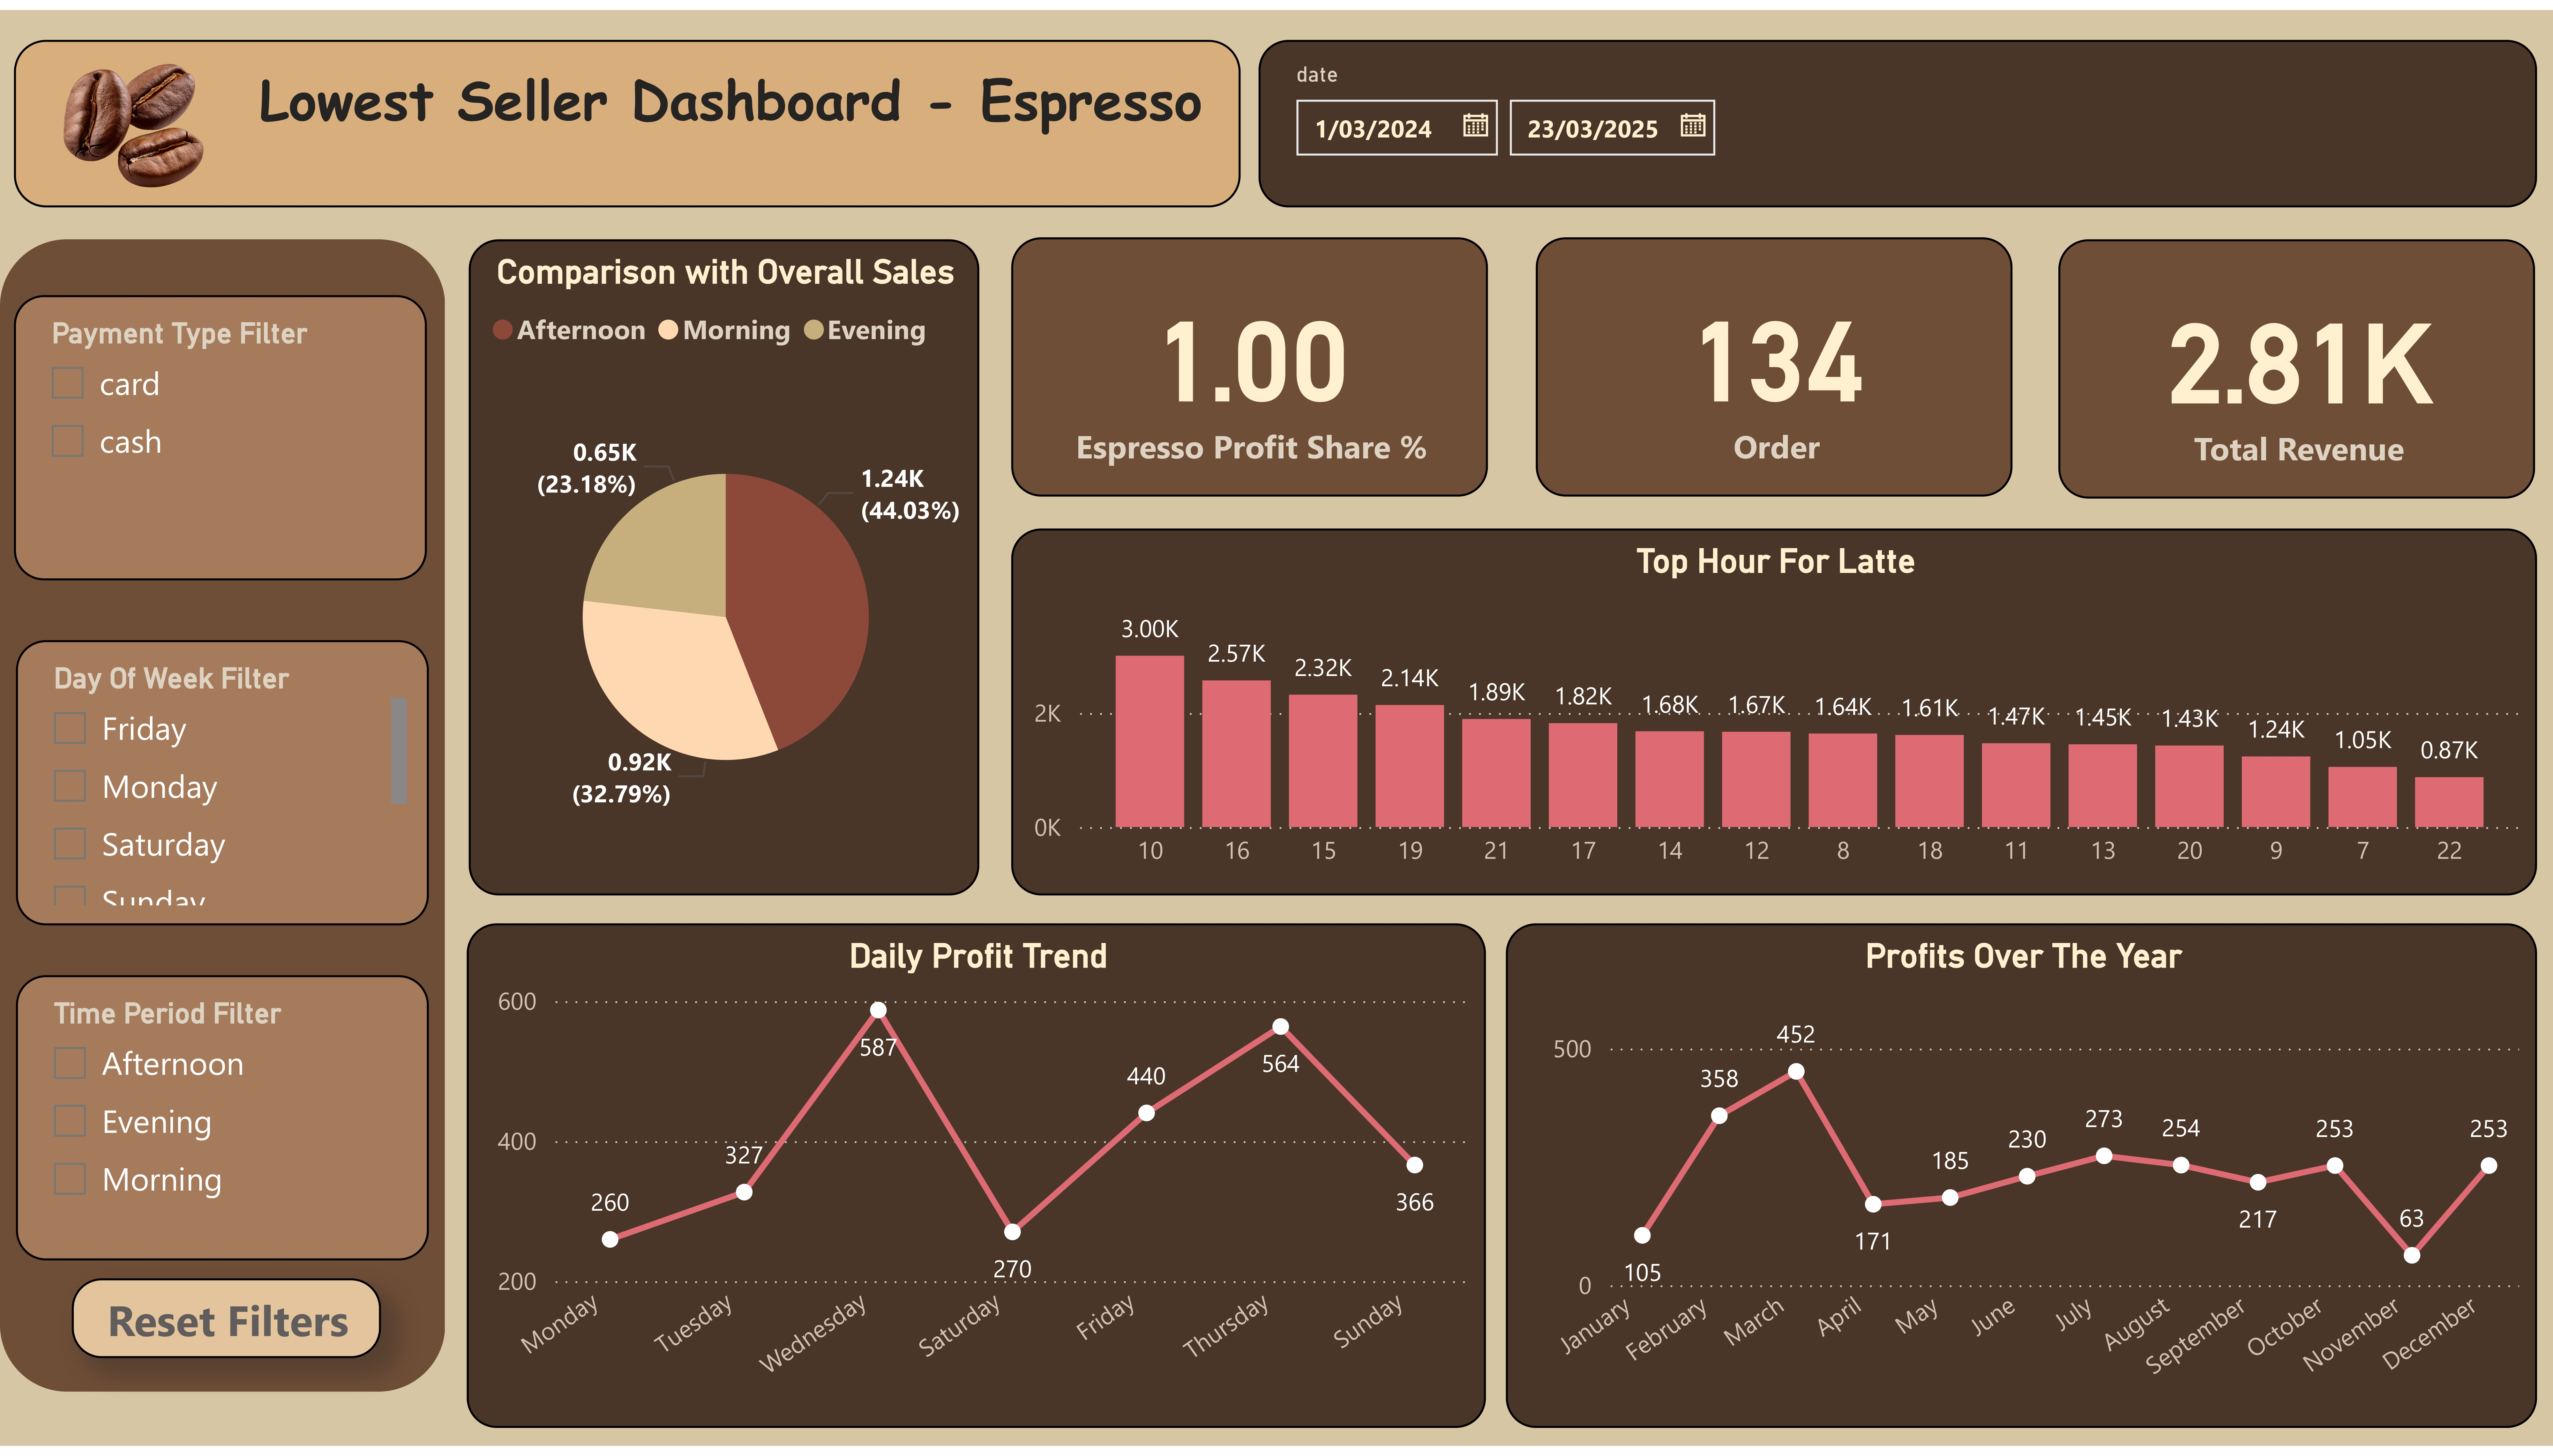

What the dashboard file says about the page in this screenshot:
{"tool":"powerbi","page":{"name":"Espersso","canvas":[1280,720],"ordinal":2},"visuals":[{"type":"shape","box":[0,115.1,223.2,577.8],"z":0},{"type":"lineChart","title":"Profits Over The Year","fields":{"Category":["Coffee_First_Branch.date.Variation.Date Hierarchy.Month"],"Y":["Sum(Coffee_First_Branch.money)"]},"box":[754.5,458.1,517.3,253.4],"z":1000},{"type":"card","fields":{"Values":["Sum(Coffee_First_Branch.money)"]},"box":[1032.4,115.1,239.5,130.2],"z":2000},{"type":"slicer","fields":{"Values":["Coffee_First_Branch.date"]},"box":[631.3,15.1,640.6,83.7],"z":3000},{"type":"slicer","fields":{"Values":["Coffee_First_Branch.day_of_week"]},"box":[8.2,315.5,207.2,142.7],"z":4000},{"type":"slicer","fields":{"Values":["Coffee_First_Branch.cash_type"]},"box":[6.9,142.7,207.2,143],"z":5000},{"type":"slicer","fields":{"Values":["Coffee_First_Branch.time_period"]},"box":[8.2,484.3,207.2,142.7],"z":6000},{"type":"card","fields":{"Values":["CountNonNull(Coffee_First_Branch.card)"]},"box":[769.6,113.9,239.5,130.2],"z":7000},{"type":"lineChart","title":"Daily Profit Trend","fields":{"Y":["Sum(Coffee_First_Branch.money)"],"Category":["Coffee_First_Branch.day_of_week"]},"box":[234.4,457.7,511.3,253.4],"z":8000},{"type":"card","fields":{"Values":["Coffee_First_Branch.Espresso Profit %"]},"box":[506.9,113.9,239,130.2],"z":9000},{"type":"textbox","box":[7,15.1,615,83.7],"z":10000},{"type":"image","box":[18.6,7,93,98.8],"z":11000},{"type":"actionButton","box":[36,636.4,154.6,39.6],"z":12000},{"type":"columnChart","title":"Top Hour For Latte","fields":{"Category":["Coffee_First_Branch.hour"],"Y":["Sum(Coffee_First_Branch.money)"]},"box":[506.9,260.4,765,183.7],"z":13000},{"type":"pieChart","title":"Comparison with Overall Sales","fields":{"Category":["Coffee_First_Branch.time_period"],"Y":["Sum(Coffee_First_Branch.money)"]},"box":[234.8,115.1,255.8,329],"z":14000}]}

Visuals, with their boxes in screenshot pixels (x1, y1, x2, y2), scaled from the page's 1280x720 canvas onto the 2553x1456 screenshot:
shape: rect(0, 233, 445, 1401)
"Profits Over The Year" lineChart: rect(1505, 926, 2537, 1439)
card - Sum(Coffee_First_Branch.money): rect(2059, 233, 2537, 496)
slicer - Coffee_First_Branch.date: rect(1259, 31, 2537, 200)
slicer - Coffee_First_Branch.day_of_week: rect(16, 638, 430, 926)
slicer - Coffee_First_Branch.cash_type: rect(14, 289, 427, 578)
slicer - Coffee_First_Branch.time_period: rect(16, 979, 430, 1268)
card - CountNonNull(Coffee_First_Branch.card): rect(1535, 230, 2013, 494)
"Daily Profit Trend" lineChart: rect(468, 925, 1487, 1438)
card - Coffee_First_Branch.Espresso Profit %: rect(1011, 230, 1488, 494)
textbox: rect(14, 31, 1241, 200)
image: rect(37, 14, 223, 214)
actionButton: rect(72, 1287, 380, 1367)
"Top Hour For Latte" columnChart: rect(1011, 527, 2537, 898)
"Comparison with Overall Sales" pieChart: rect(468, 233, 978, 898)
